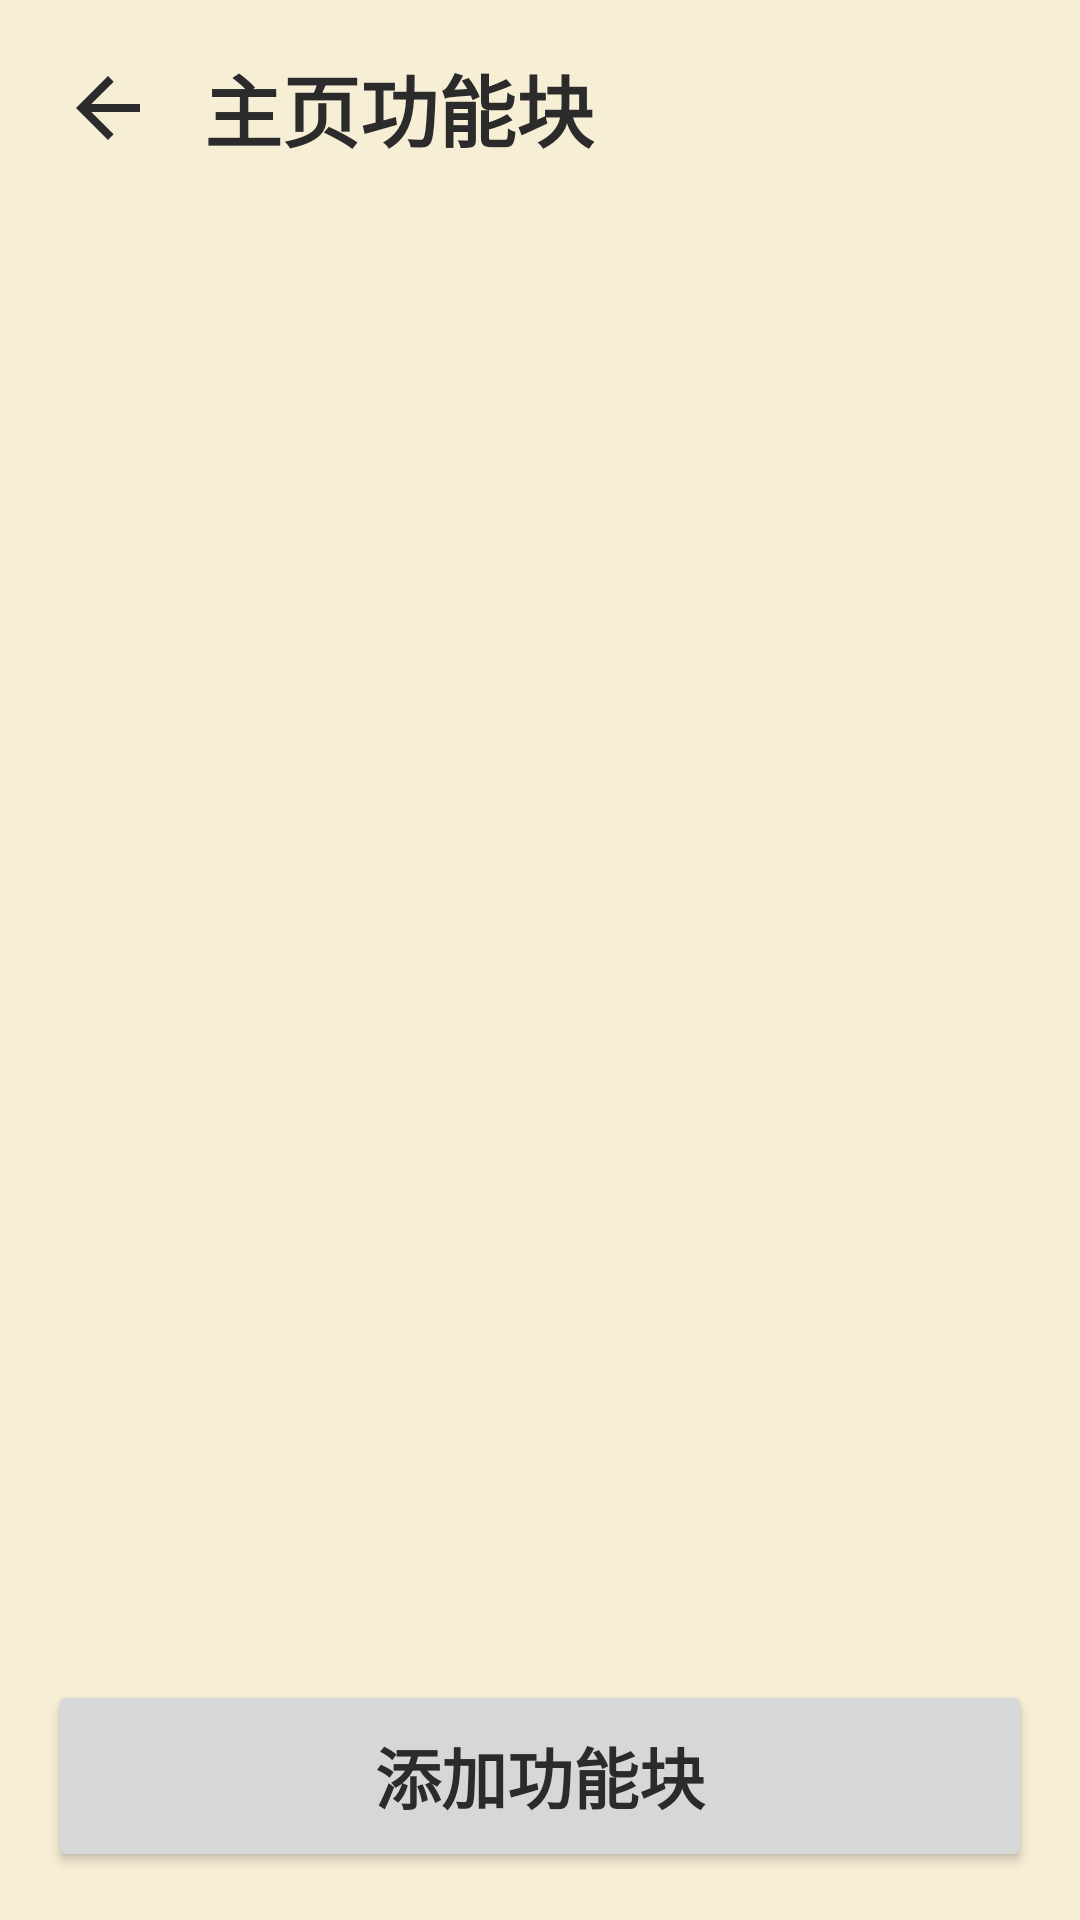

Named icons in this screenshot (1080*1920) and their bounding boxes, {"x1": x1, "y1": y1, "x2": x2, "y2": y2}:
取消: {"x1": 76, "y1": 76, "x2": 140, "y2": 140}
